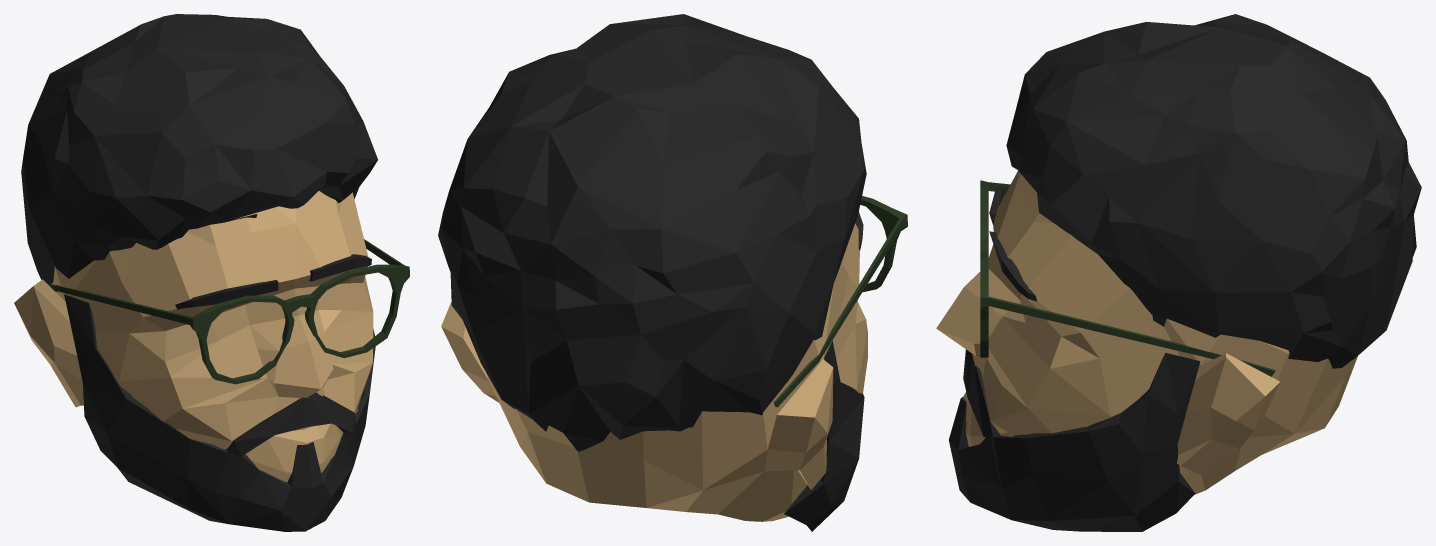
Rendered from dean_lowPoly.glb.
3 renders of one model, left to right at view 1: azimuth 30°, elevation 25°; view 2: azimuth 150°, elevation 25°; view 3: azimuth 270°, elevation 25°, orthographic. The views are drawn at different scales.
Parts seen in each view (by area): view 1: dean_lowPoly; view 2: dean_lowPoly; view 3: dean_lowPoly.
Boxes of the visible parts, x1,y1,x2,y2 form: dean_lowPoly: (14,14,409,531); dean_lowPoly: (438,14,907,531); dean_lowPoly: (936,14,1421,531).
Size of the model in its own units: 19.01 by 24.06 by 22.8.
1 material, 1 textured.
